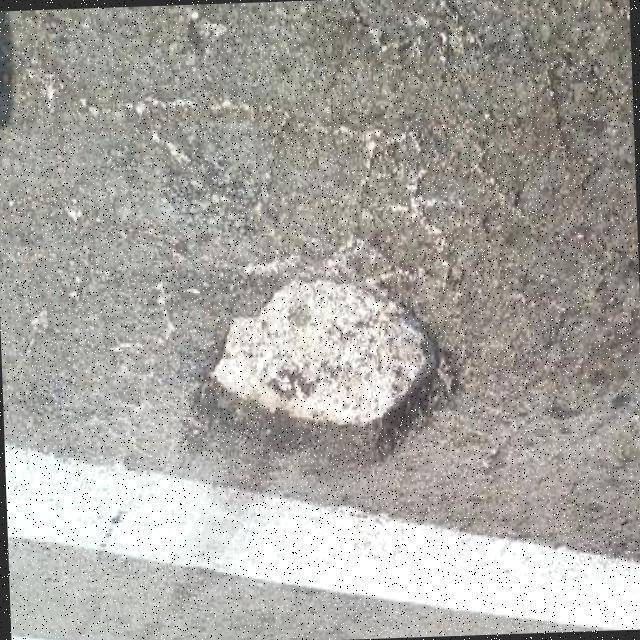Pothole: (184, 280, 457, 459)
